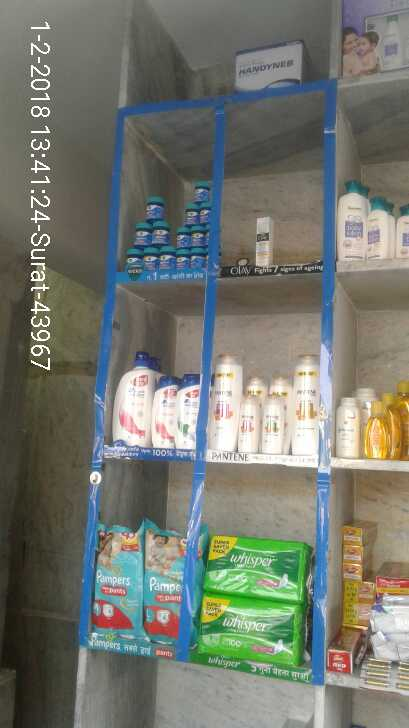beauty: (109, 345, 153, 448), (205, 353, 241, 449), (289, 355, 319, 456), (175, 371, 200, 450), (151, 369, 175, 449)
pharmacy: (114, 173, 211, 272), (199, 592, 311, 669), (195, 533, 308, 598), (96, 523, 143, 640), (141, 526, 186, 643)
